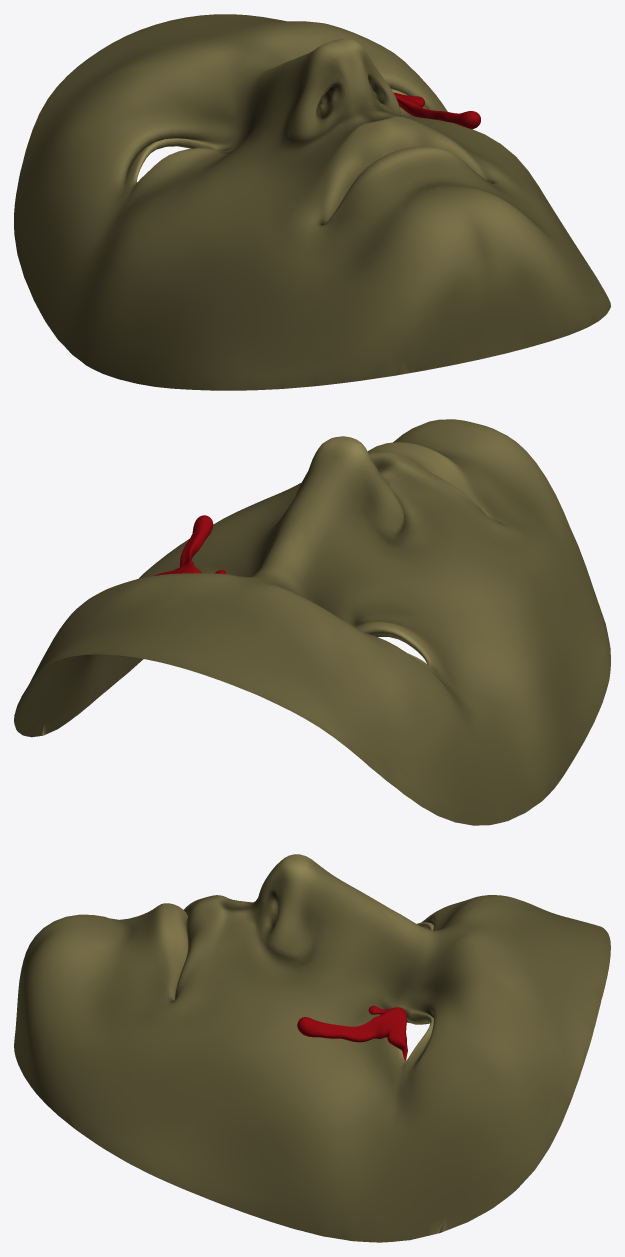
The model's file is Mask.fbx.
The picture shows the model from 3 angles, top to bottom: view 1: azimuth 30°, elevation 25°; view 2: azimuth 150°, elevation 25°; view 3: azimuth 270°, elevation 25°; orthographic projection. The views are drawn at different scales.
Visible parts, largest first — view 1: blMilMan_m4b_68498-sk, Mball.007; view 2: blMilMan_m4b_68498-sk, Mball.007; view 3: blMilMan_m4b_68498-sk, Mball.007.
Part boxes in pixels (left/top/right/bottom): blMilMan_m4b_68498-sk: left=14, top=14, right=610, bottom=390; Mball.007: left=394, top=92, right=480, bottom=129; blMilMan_m4b_68498-sk: left=14, top=419, right=610, bottom=825; Mball.007: left=154, top=515, right=225, bottom=575; blMilMan_m4b_68498-sk: left=14, top=854, right=610, bottom=1242; Mball.007: left=297, top=1005, right=407, bottom=1060.
Size of the model in its own units: 14.6 by 9.32 by 17.94.
